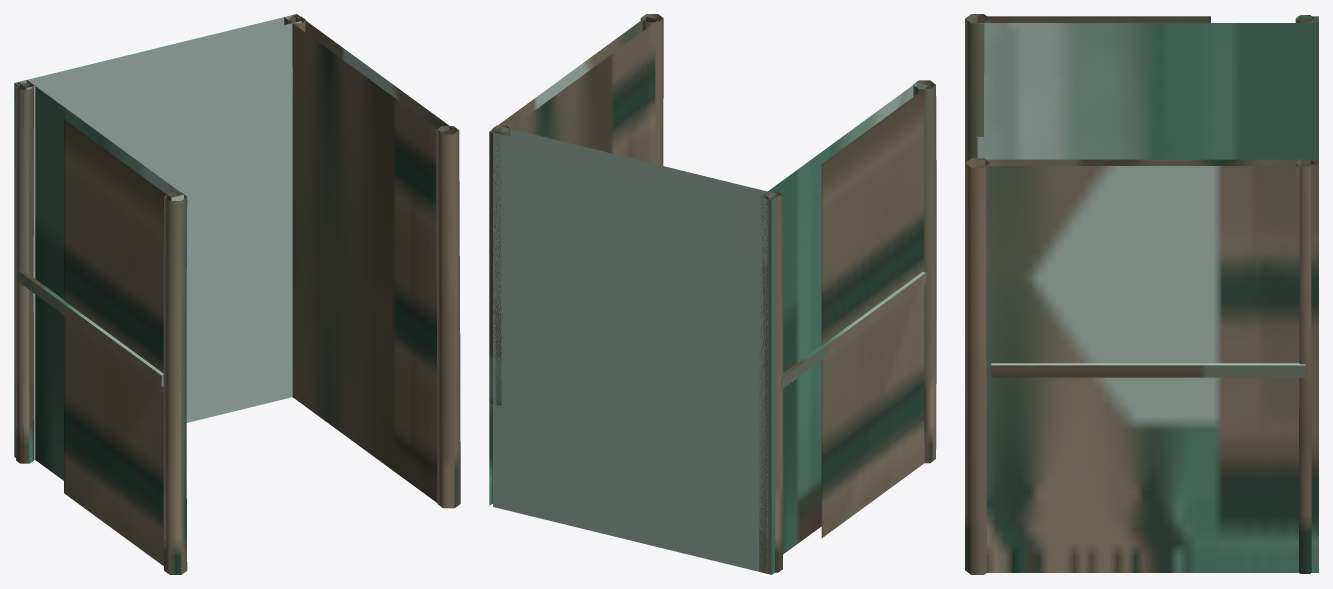
File: section-4.obj
The picture shows the model from 3 angles, left to right: view 1: azimuth 30°, elevation 25°; view 2: azimuth 150°, elevation 25°; view 3: azimuth 270°, elevation 25°; orthographic projection. The views are drawn at different scales.
Size of the model in its own units: 0.8147 by 1 by 0.788.
